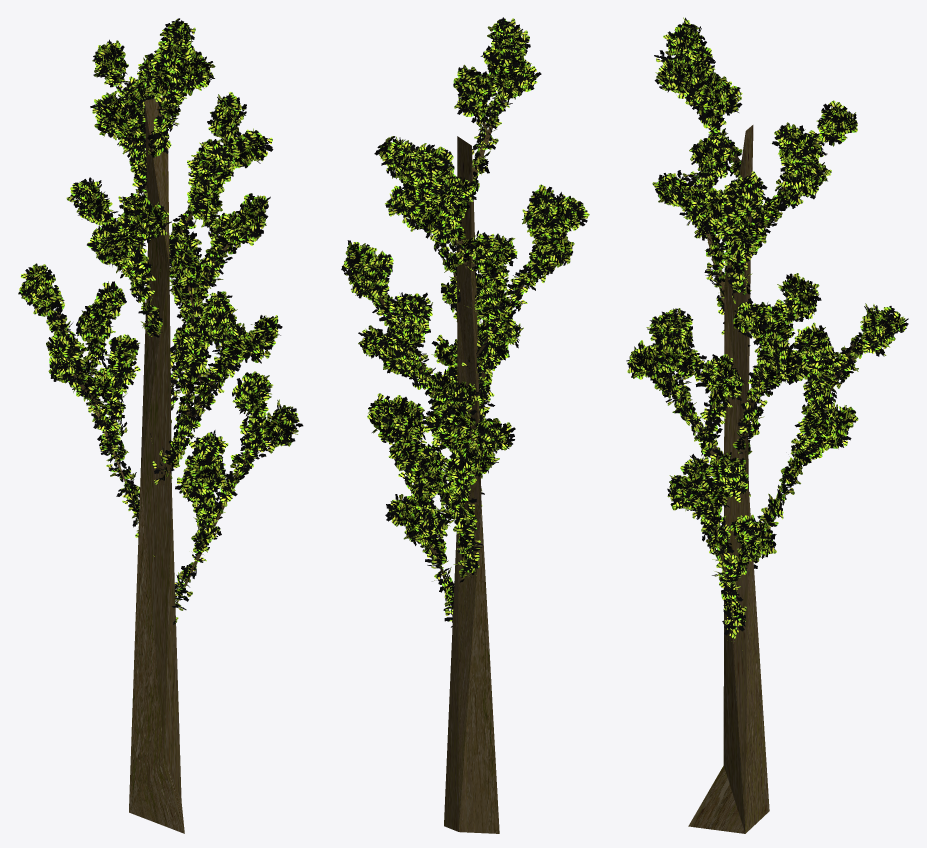
Rendered from baldcypress_v01_LOD1.fbx.
3 views of the same model, side by side, from view 1: azimuth 30°, elevation 25°; view 2: azimuth 150°, elevation 25°; view 3: azimuth 270°, elevation 25° (orthographic). The views are drawn at different scales.
Parts seen in each view (by area): view 1: baldcypress_v01_LOD1; view 2: baldcypress_v01_LOD1; view 3: baldcypress_v01_LOD1.
Boxes of the visible parts, <box> form: baldcypress_v01_LOD1: <box>18,18,303,833</box>; baldcypress_v01_LOD1: <box>341,17,589,833</box>; baldcypress_v01_LOD1: <box>626,17,908,833</box>.
Size of the model in its own units: 804 by 903 by 2757.
Materials: 2 (2 with a texture image).
